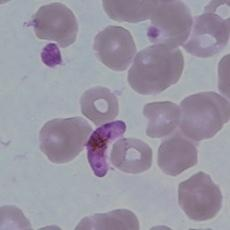Infected: (87, 120, 127, 177)
Uninfected: (127, 45, 173, 93), (178, 171, 222, 221), (147, 0, 192, 47), (32, 2, 79, 46), (94, 24, 137, 72), (178, 95, 223, 140), (40, 118, 81, 164), (185, 15, 228, 58), (159, 137, 199, 176), (111, 138, 154, 173), (80, 86, 119, 124), (143, 100, 181, 138)
